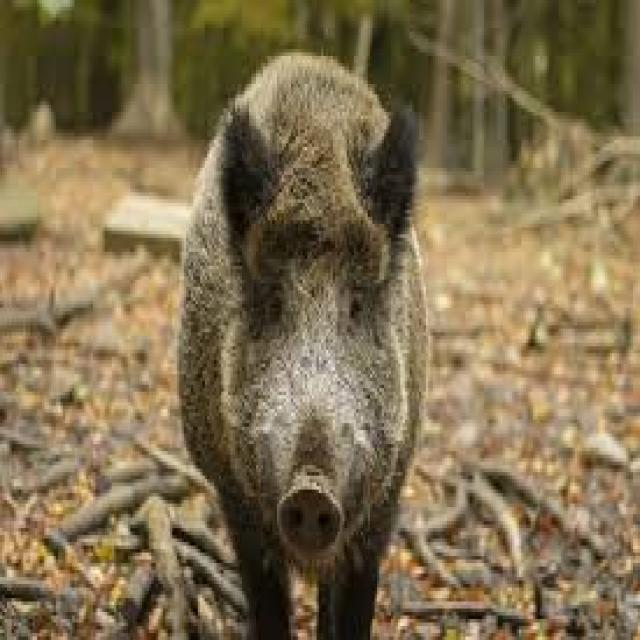boar: (116, 28, 491, 640)
